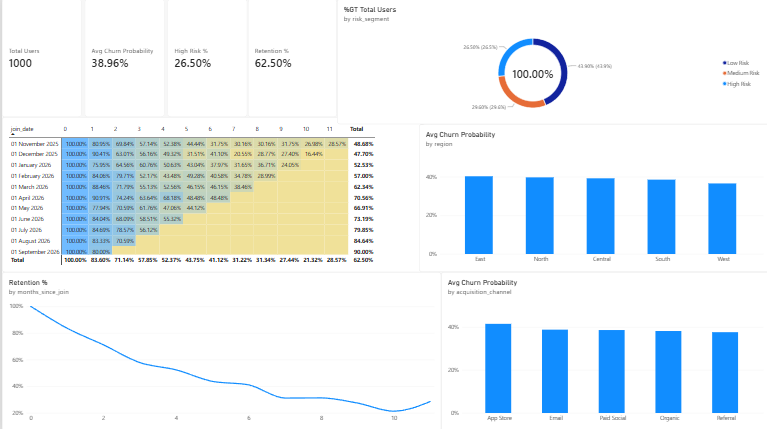

Layout of this report page (visuals, bound fields, positions):
{"tool":"powerbi","page":{"name":"Page 1","canvas":[1920,1080],"ordinal":0},"visuals":[{"type":"cardVisual","fields":{"Data":["Dim_Date.Total Users","Dim_Date.Avg Churn Probability","Dim_Date.High Risk %"]},"box":[0,0,615,295],"z":0},{"type":"cardVisual","fields":{"Data":["Dim_Date.Retention %"]},"box":[615,0,222.5,295],"z":1000},{"type":"pivotTable","fields":{"Columns":["Fact_Activity.months_since_join"],"Rows":["Dim_Users.join_date"],"Values":["Dim_Date.Retention %"]},"box":[0,295.2,1077.7,423.2],"z":2000},{"type":"donutChart","title":"Users by predicted risk segment","fields":{"Category":["Fact_Predictions.risk_segment"],"Y":["Dim_Date.Total Users"]},"box":[838.2,0,1081.8,311.7],"z":3000},{"type":"clusteredColumnChart","fields":{"Category":["Dim_Users.region"],"Y":["Dim_Date.Avg Churn Probability"]},"box":[1042.6,311.7,877.4,371.6],"z":4000},{"type":"clusteredColumnChart","title":"Avg Predicted Churn Probability by Acquisition Channel","fields":{"Category":["Dim_Users.acquisition_channel"],"Y":["Dim_Date.Avg Churn Probability"]},"box":[1077.7,683.4,842.3,396.4],"z":4001},{"type":"lineChart","fields":{"Category":["Fact_Activity.months_since_join"],"Y":["Dim_Date.Retention %"]},"box":[0,718.5,1077.7,361.3],"z":4002}]}

Visuals, with their boxes in screenshot pixels (x1, y1, x2, y2), scaled from the page's 1920x1080 canvas onto the 767x429 screenshot:
cardVisual - Dim_Date.Total Users x Dim_Date.Avg Churn Probability: BBox(0, 0, 246, 117)
cardVisual - Dim_Date.Retention %: BBox(246, 0, 335, 117)
pivotTable - Fact_Activity.months_since_join x Dim_Users.join_date: BBox(0, 117, 431, 285)
"Users by predicted risk segment" donutChart: BBox(335, 0, 766, 124)
clusteredColumnChart - Dim_Users.region x Dim_Date.Avg Churn Probability: BBox(416, 124, 766, 271)
"Avg Predicted Churn Probability by Acquisition Channel" clusteredColumnChart: BBox(431, 271, 766, 428)
lineChart - Fact_Activity.months_since_join x Dim_Date.Retention %: BBox(0, 285, 431, 428)
